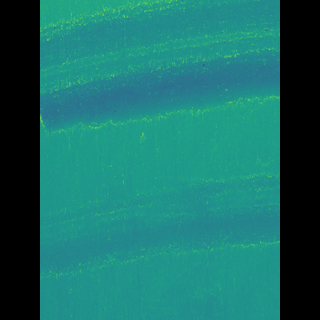Loch: (69, 0, 249, 134), (70, 170, 249, 282)
